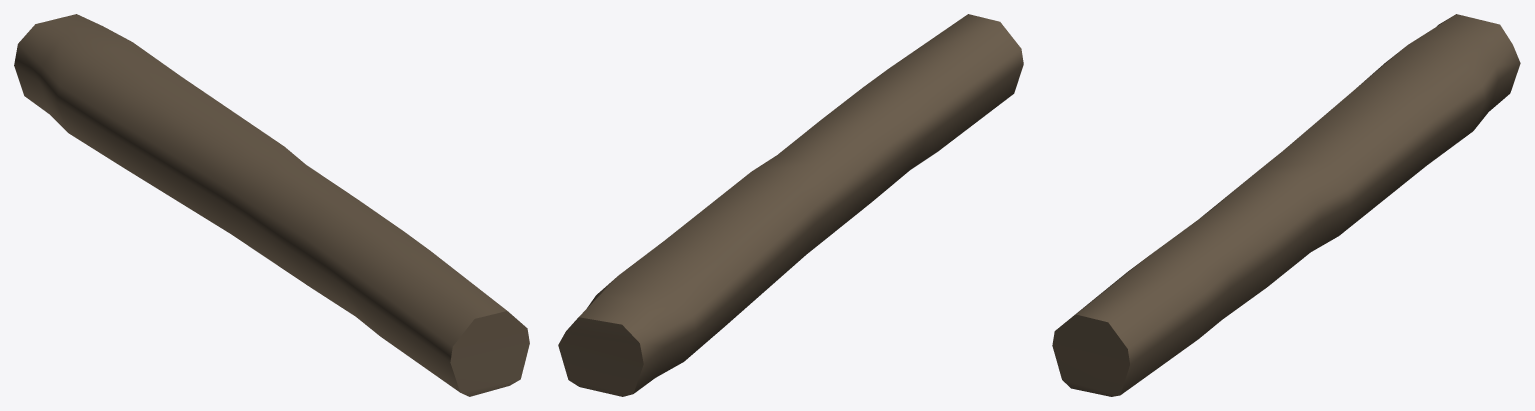
The model's file is tronco largo.fbx.
The picture shows the model from 3 angles, left to right: view 1: azimuth 30°, elevation 25°; view 2: azimuth 150°, elevation 25°; view 3: azimuth 330°, elevation 25°; orthographic projection. The views are drawn at different scales.
Visible parts, largest first — view 1: pCylinder1; view 2: pCylinder1; view 3: pCylinder1.
Boxes of the visible parts, x1,y1,x2,y2 form: pCylinder1: (14,14,529,396); pCylinder1: (558,14,1023,396); pCylinder1: (1052,14,1520,396).
Size of the model in its own units: 0.9509 by 0.6547 by 6.26.
